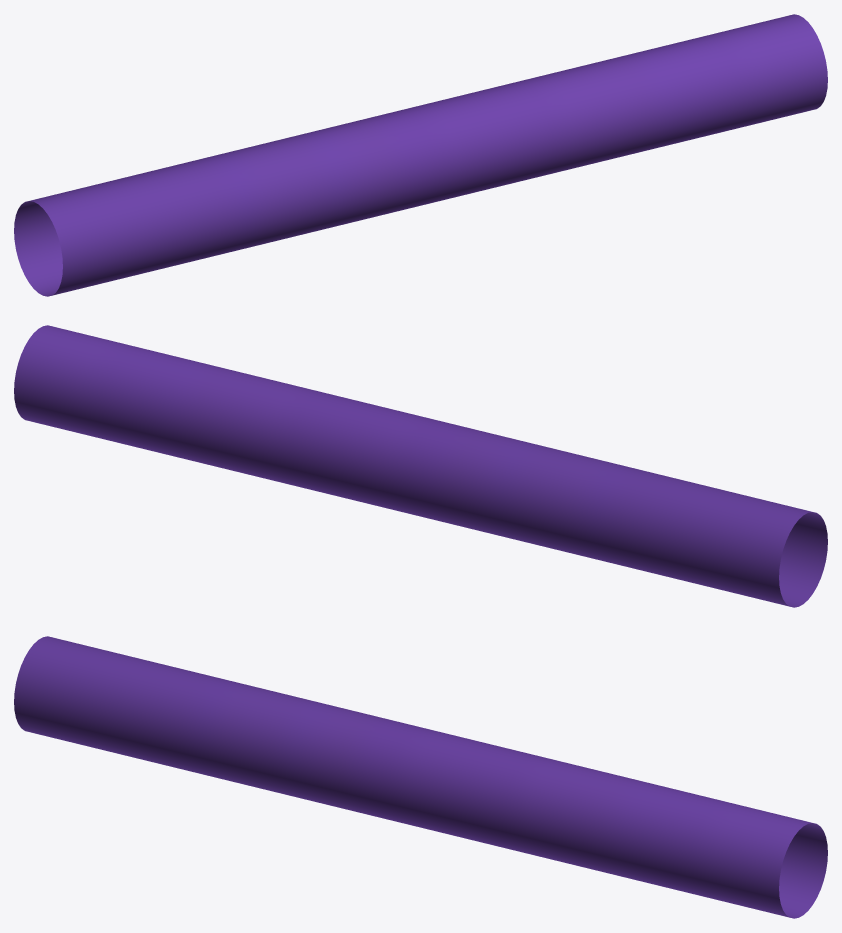
Rendered from pipe0.fbx.
3 views of the same model, one above another, from view 1: azimuth 30°, elevation 25°; view 2: azimuth 150°, elevation 25°; view 3: azimuth 330°, elevation 25° (orthographic).
Parts seen in each view (by area): view 1: pipe0; view 2: pipe0; view 3: pipe0.
Part boxes in pixels (x1,y1,x2,y2): pipe0: [14, 14, 827, 296]; pipe0: [14, 325, 827, 607]; pipe0: [14, 636, 827, 918].
Bounding box in the file's own units: 9.55 × 1.06 × 1.06.
1 material, 1 textured.
